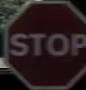Stop: (8, 4, 85, 81)
